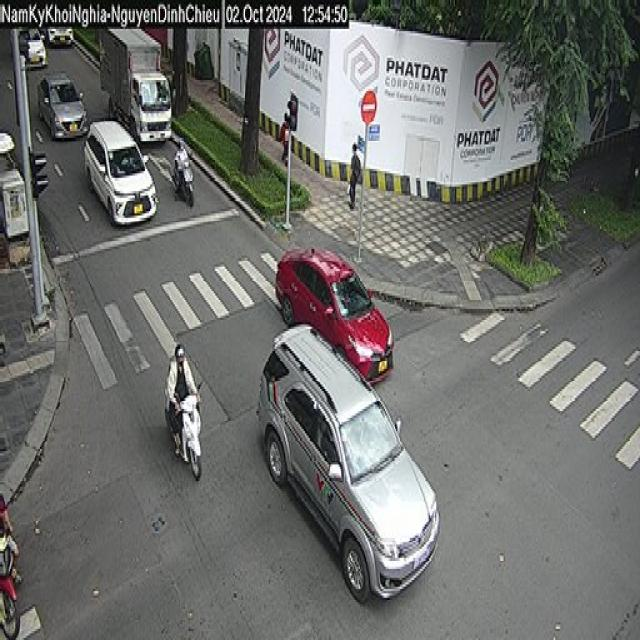car: (255, 322, 440, 602), (275, 244, 394, 384), (82, 118, 158, 224), (36, 71, 88, 140), (45, 12, 81, 61), (18, 27, 51, 68)
motorcycle: (167, 399, 211, 479), (0, 545, 26, 640), (172, 156, 200, 210)
person: (164, 342, 200, 458), (0, 494, 21, 584), (172, 138, 190, 193), (348, 142, 362, 209), (279, 111, 290, 162)
truck: (98, 22, 172, 142)
